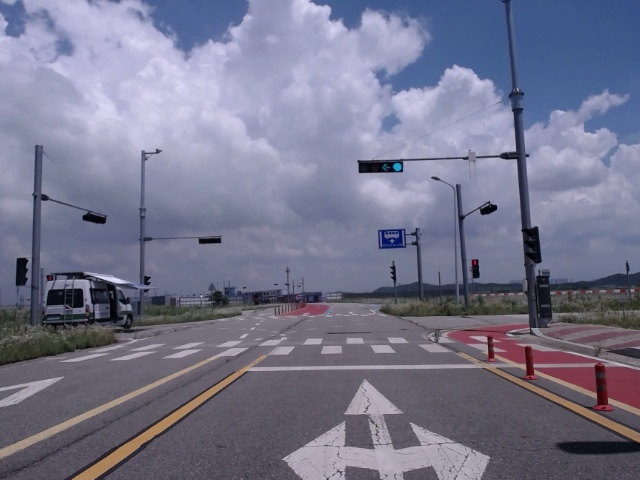all_green_4: (358, 159, 402, 172)
